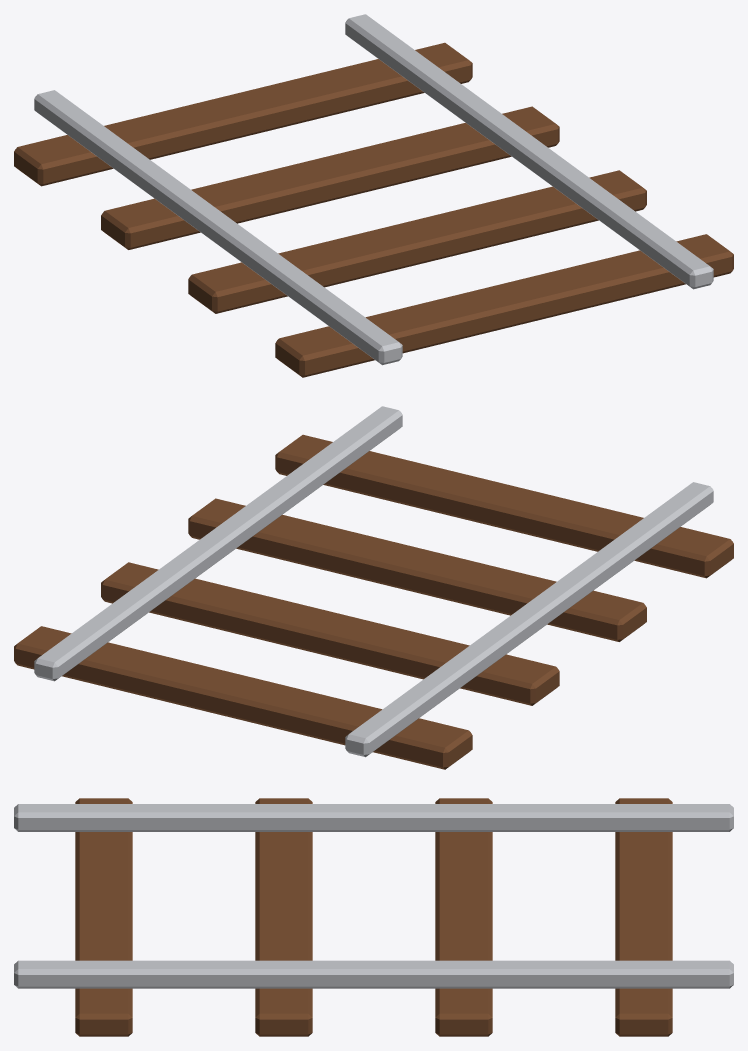
The model's file is Track.fbx.
3 views of the same model, one above another, from view 1: azimuth 30°, elevation 25°; view 2: azimuth 150°, elevation 25°; view 3: azimuth 270°, elevation 25° (orthographic). The views are drawn at different scales.
Parts seen in each view (by area): view 1: Track_Segment; view 2: Track_Segment; view 3: Track_Segment.
Boxes of the visible parts, x1,y1,x2,y2 form: Track_Segment: (14,14,733,377); Track_Segment: (14,406,733,769); Track_Segment: (14,798,733,1036).
Bounding box in the file's own units: 1.44 × 0.13 × 2.
